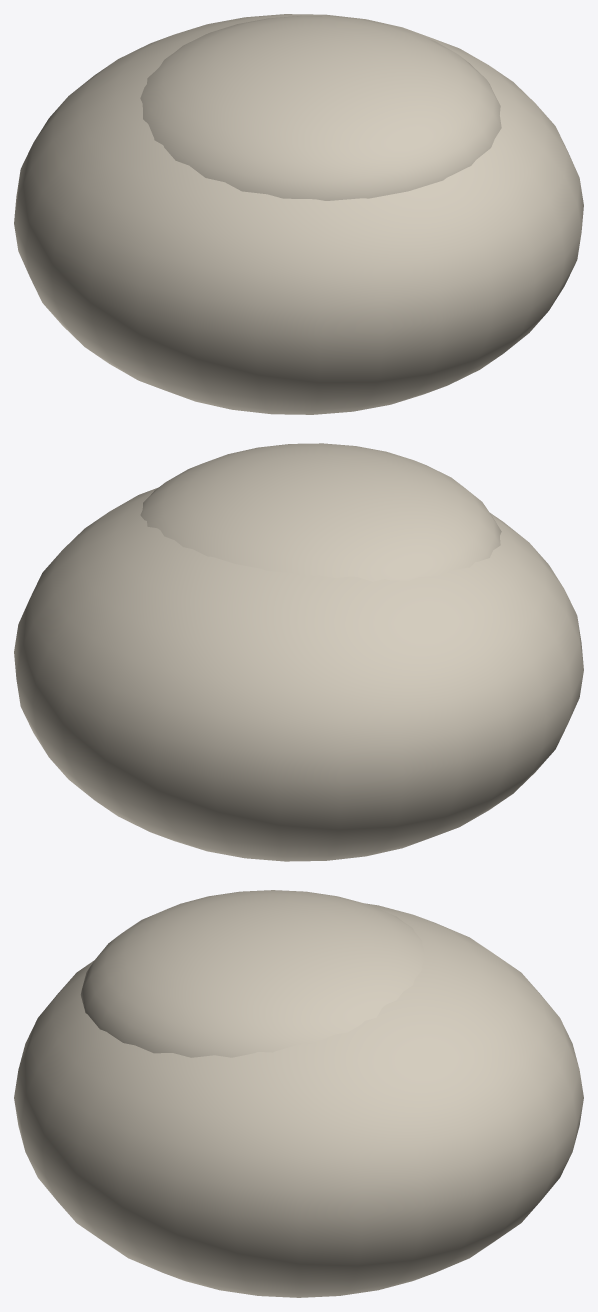
File: beanbag.glb
The picture shows the model from 3 angles, top to bottom: view 1: azimuth 30°, elevation 25°; view 2: azimuth 150°, elevation 25°; view 3: azimuth 270°, elevation 25°; orthographic projection.
Parts seen in each view (by area): view 1: bag, dent; view 2: bag, dent; view 3: bag, dent.
Boxes of the visible parts, x1,y1,x2,y2 form: bag: [14, 14, 583, 414]; dent: [140, 16, 501, 200]; bag: [14, 487, 583, 861]; dent: [140, 443, 501, 581]; bag: [14, 903, 583, 1297]; dent: [80, 890, 424, 1057].
Bounding box in the file's own units: 0.88 × 0.5678 × 0.88.
